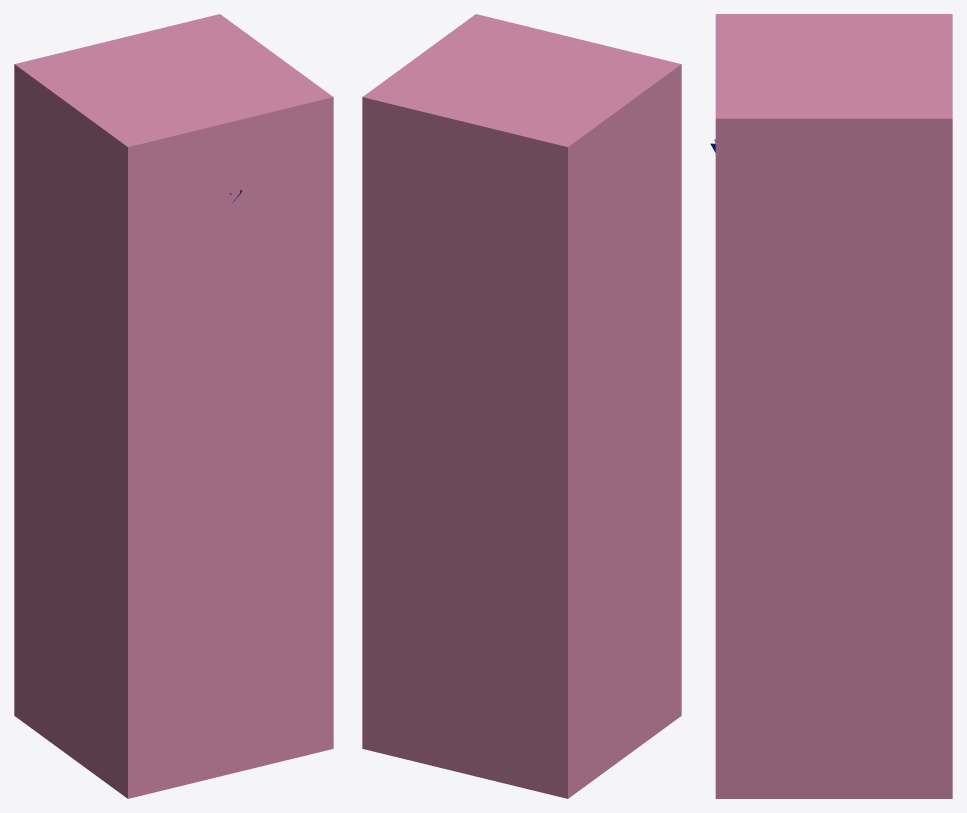
Rendered from tree_aspen_forest_a.dae.
3 renders of one model, left to right at view 1: azimuth 30°, elevation 25°; view 2: azimuth 150°, elevation 25°; view 3: azimuth 270°, elevation 25°, orthographic. The views are drawn at different scales.
Parts seen in each view (by area): view 1: Untitled; view 2: Untitled; view 3: Untitled.
Boxes of the visible parts, x1,y1,x2,y2 form: Untitled: (14, 14, 333, 798); Untitled: (362, 14, 681, 798); Untitled: (715, 14, 952, 798).
Bounding box in the file's own units: 5.15 × 5.04 × 15.62.
